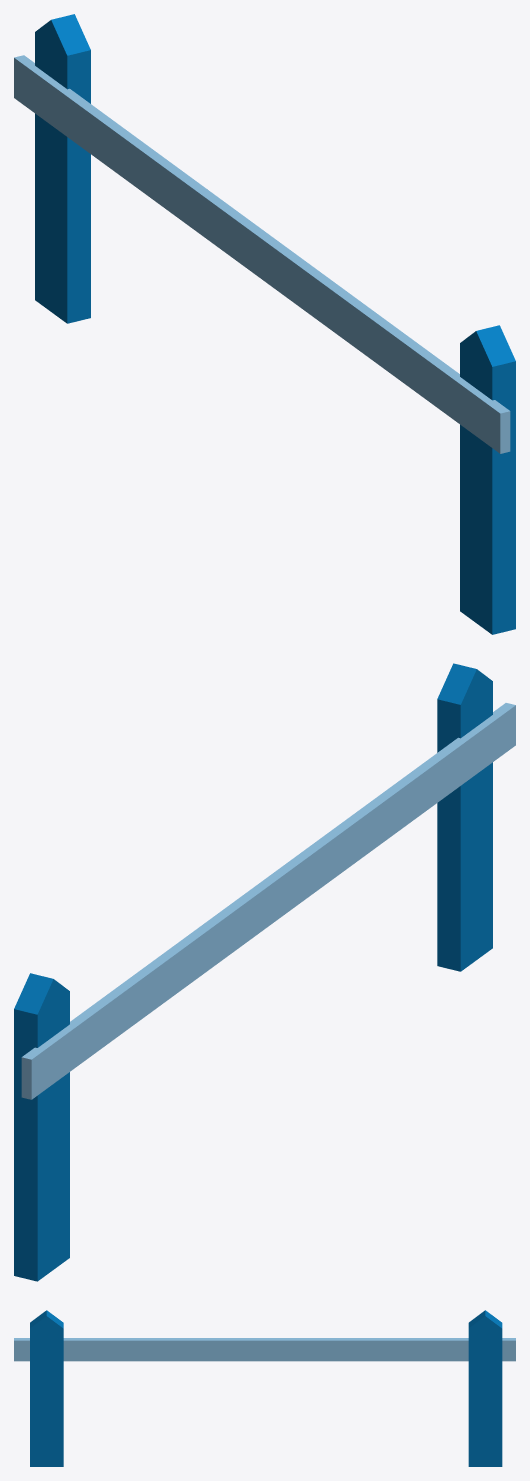
Rendered from VallaAlta.fbx.
3 renders of one model, top to bottom at view 1: azimuth 30°, elevation 25°; view 2: azimuth 150°, elevation 25°; view 3: azimuth 270°, elevation 25°, orthographic. The views are drawn at different scales.
Parts seen in each view (by area): view 1: Valla.001; view 2: Valla.001; view 3: Valla.001.
Part boxes in pixels (box(x1,y1,x2,y2)): Valla.001: box(14, 14, 515, 634); Valla.001: box(14, 663, 515, 1281); Valla.001: box(14, 1310, 515, 1466).
Size of the model in its own units: 20.94 by 188 by 567.
1 material, 1 textured.
